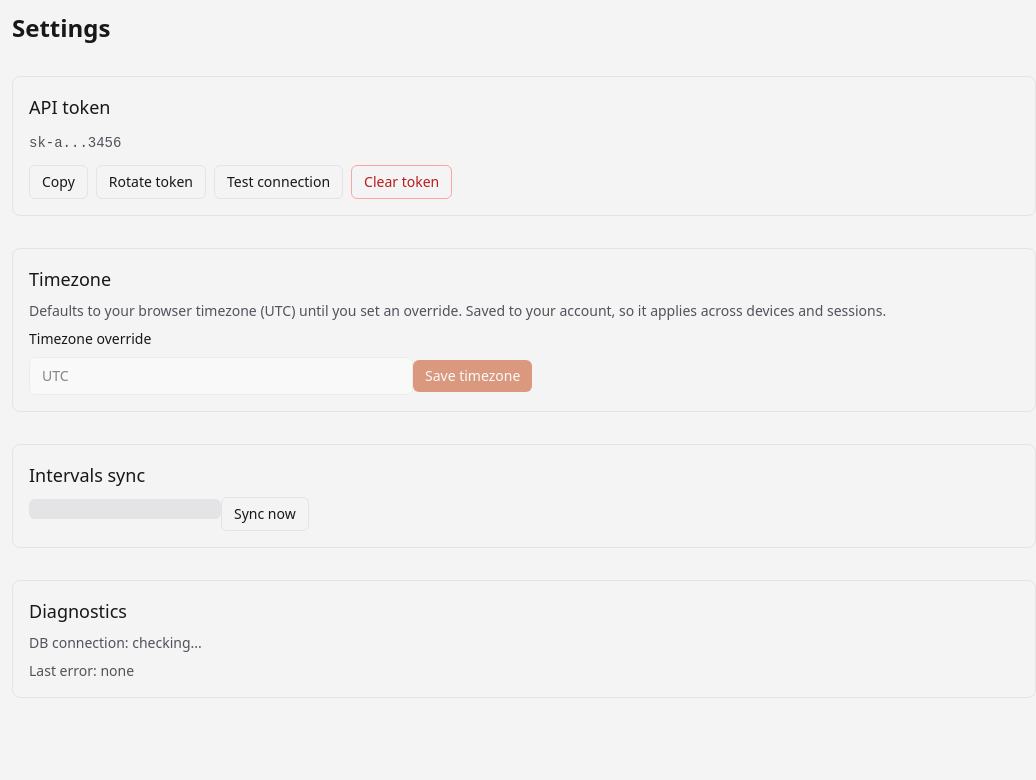
SettingsPage › shows a success toast when the token is cleared
Click the button "Clear token". click: (402, 182)
box: [351,165,452,199]
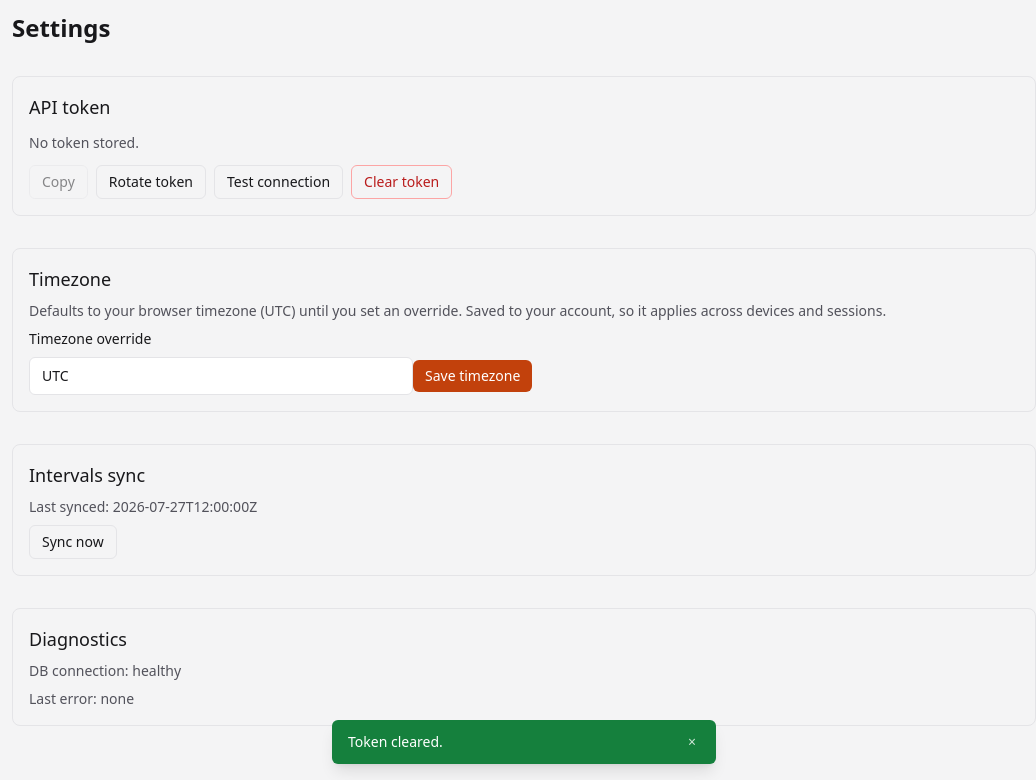
Check: the text "No token stored." is shown, box [29,133,139,152]
Check: the text "Token cleared." is shown, box [348,732,443,752]
